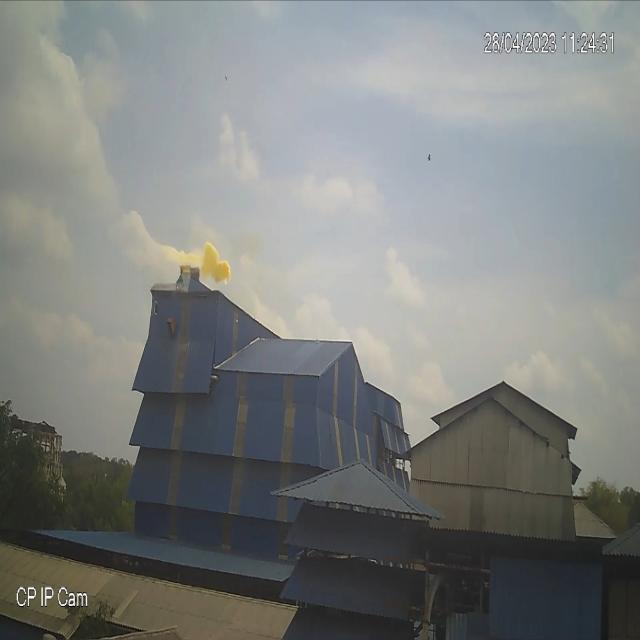yellow smoke: (118, 206, 231, 286), (160, 237, 231, 284), (198, 238, 230, 283)
